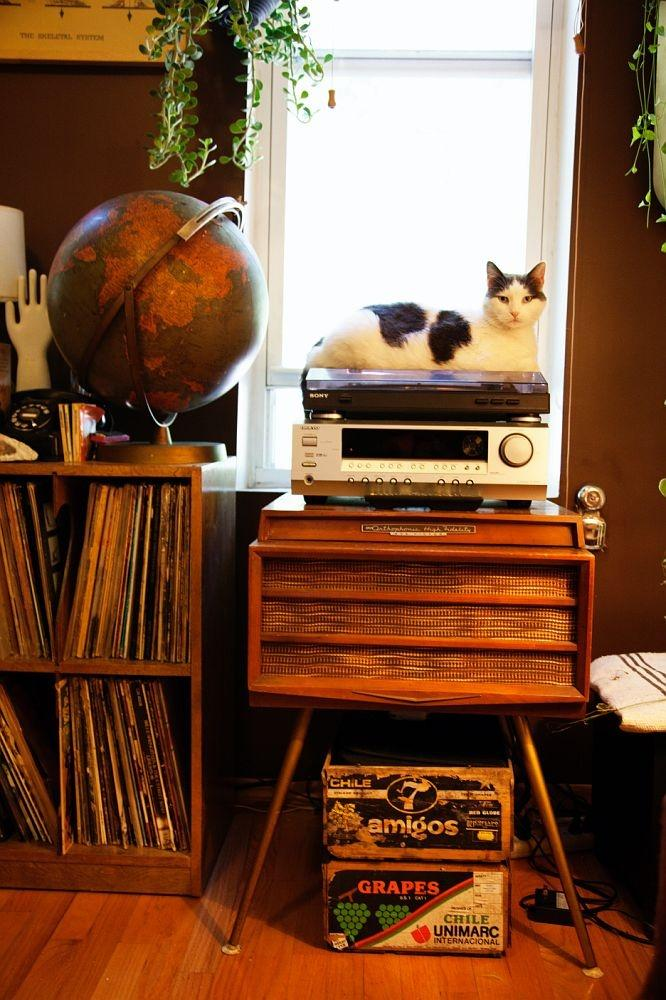Rak: (0, 467, 198, 862)
